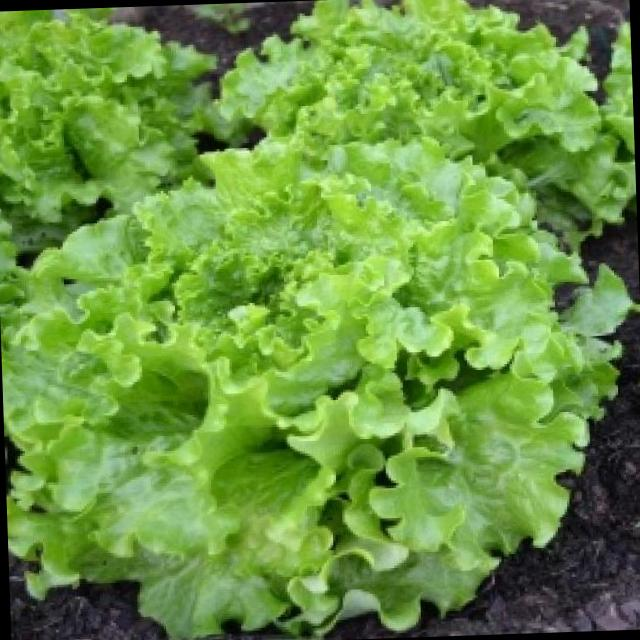Lettuce-Ready-to-Harvest: (1, 132, 631, 636), (220, 0, 636, 250), (0, 8, 214, 259)
